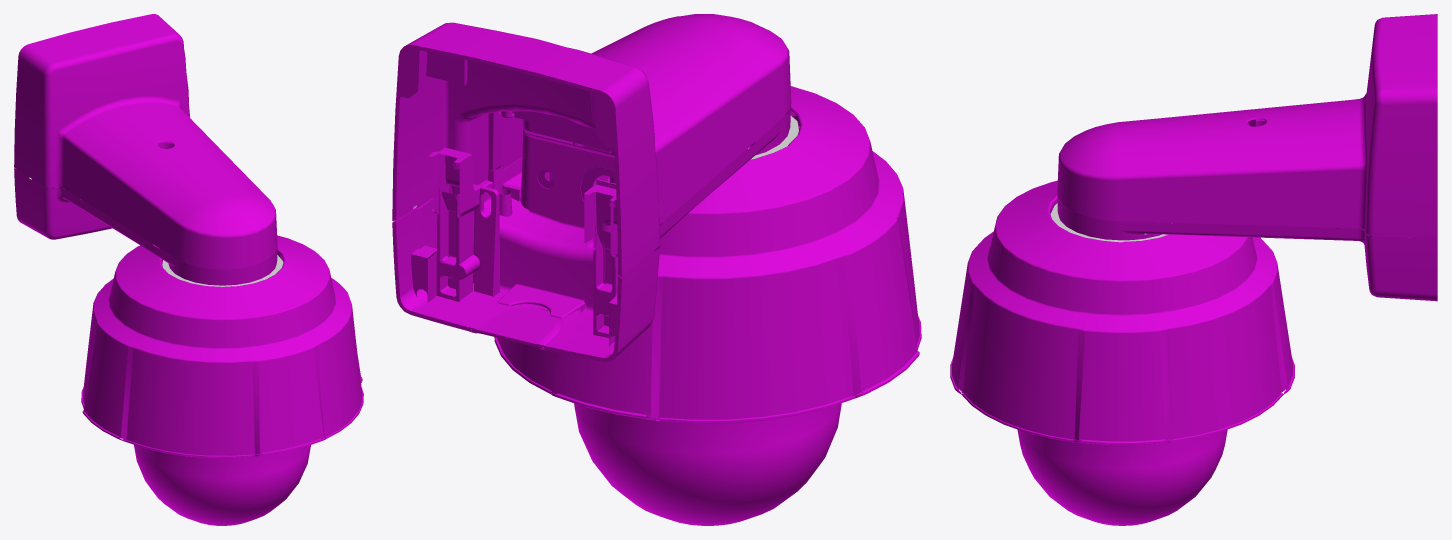
Rendered from AXIS-Q6075-E_PTZ.fbx.
3 renders of one model, left to right at view 1: azimuth 30°, elevation 25°; view 2: azimuth 150°, elevation 25°; view 3: azimuth 270°, elevation 25°, orthographic. The views are drawn at different scales.
Visible parts, largest first — view 1: Q6075-E; view 2: Q6075-E; view 3: Q6075-E.
Part boxes in pixels (bbox=[...]): Q6075-E: bbox=[14, 14, 363, 525]; Q6075-E: bbox=[392, 14, 921, 525]; Q6075-E: bbox=[950, 14, 1437, 525].
Bounding box in the file's own units: 25.15 × 37.59 × 35.58.
